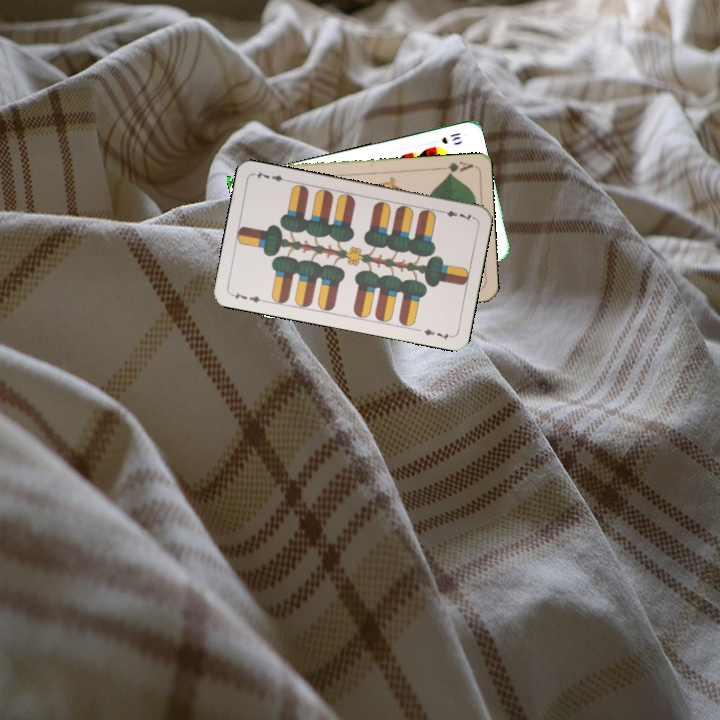E7: (436, 206, 476, 224), (228, 288, 268, 305)
GA: (435, 157, 475, 178)
S10: (437, 129, 463, 146)
